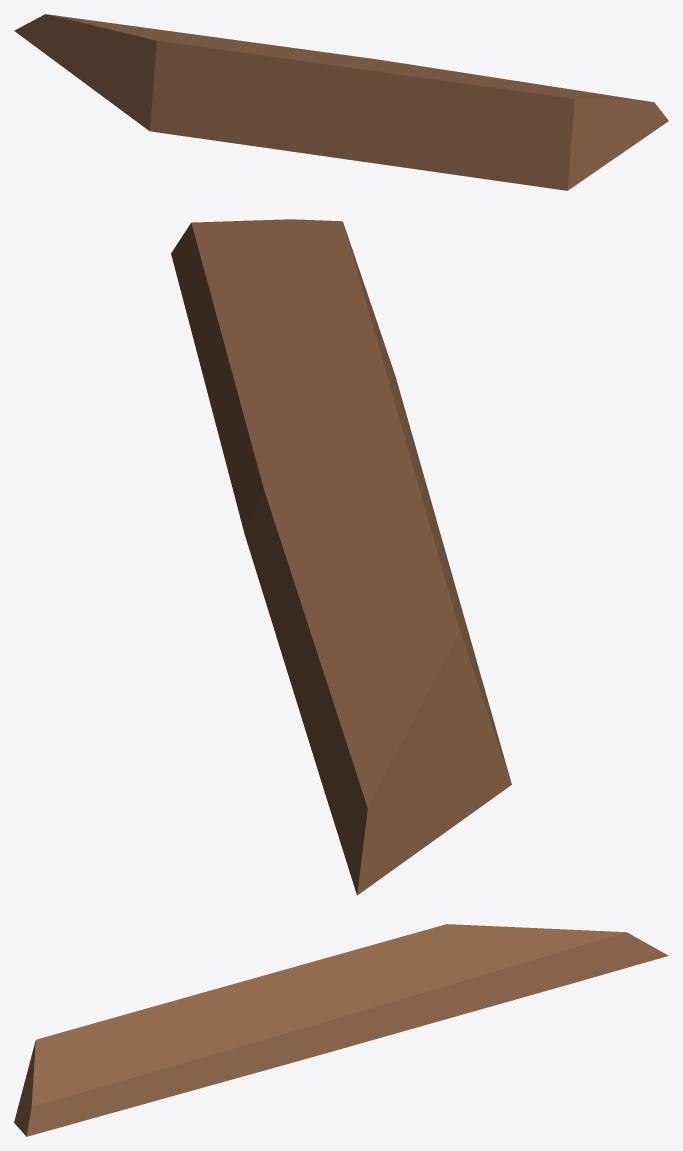
Rendered from WoodCellCube_003_cell_027.fbx.
The picture shows the model from 3 angles, top to bottom: view 1: azimuth 30°, elevation 25°; view 2: azimuth 150°, elevation 25°; view 3: azimuth 270°, elevation 25°; orthographic projection. The views are drawn at different scales.
Visible parts, largest first — view 1: WoodCellCube_003_cell_027; view 2: WoodCellCube_003_cell_027; view 3: WoodCellCube_003_cell_027.
Part boxes in pixels (left/top/right/bottom): WoodCellCube_003_cell_027: left=14, top=14, right=668, bottom=190; WoodCellCube_003_cell_027: left=171, top=219, right=511, bottom=895; WoodCellCube_003_cell_027: left=14, top=924, right=668, bottom=1136.
Bounding box in the file's own units: 0.4322 × 0.0789 × 0.3258.
1 material, 1 textured.
